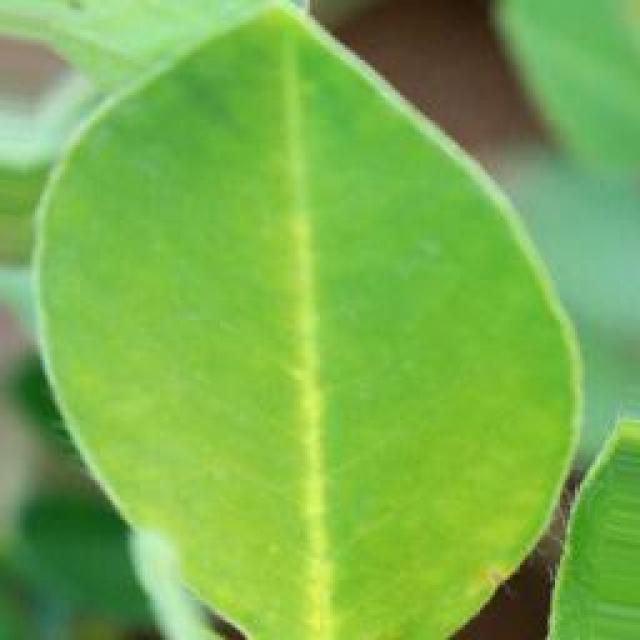Yellow_and_black_sigatoka: (39, 8, 576, 636)
